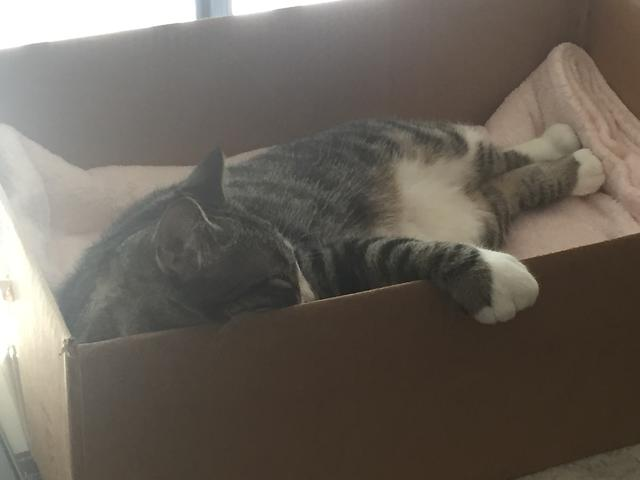playdoh: (54, 116, 604, 331)
